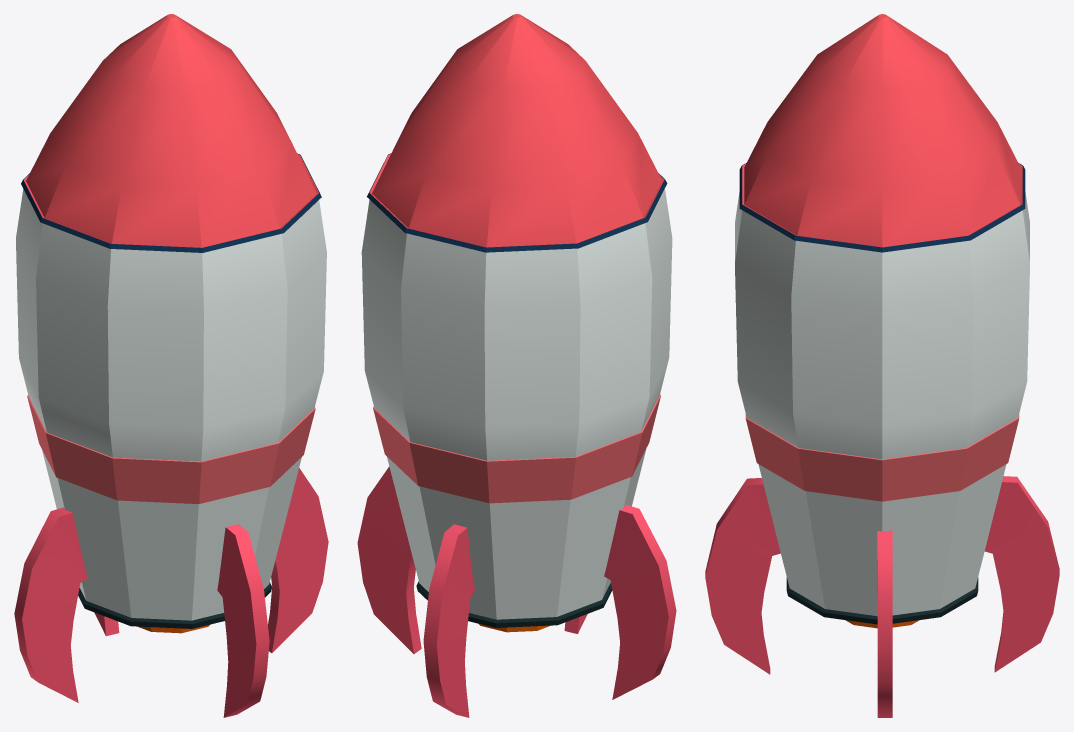
The model's file is rocket.glb.
The picture shows the model from 3 angles, left to right: view 1: azimuth 30°, elevation 25°; view 2: azimuth 150°, elevation 25°; view 3: azimuth 270°, elevation 25°; orthographic projection.
Parts seen in each view (by area): view 1: body, arm3, arm2, arm1; view 2: body, arm3, arm4, arm1; view 3: body, arm2, arm4, arm1.
Boxes of the visible parts, x1=… form: body: x1=16, y1=14, x2=326, y2=633; arm3: x1=14, y1=507, x2=87, y2=702; arm2: x1=217, y1=524, x2=269, y2=717; arm1: x1=268, y1=468, x2=328, y2=652; body: x1=361, y1=14, x2=672, y2=632; arm3: x1=604, y1=504, x2=676, y2=699; arm4: x1=423, y1=524, x2=474, y2=717; arm1: x1=357, y1=467, x2=421, y2=653; body: x1=735, y1=14, x2=1029, y2=628; arm2: x1=705, y1=478, x2=780, y2=674; arm4: x1=984, y1=476, x2=1059, y2=672; arm1: x1=877, y1=530, x2=892, y2=717.
Size of the model in its own units: 0.3408 by 0.6947 by 0.3408.
